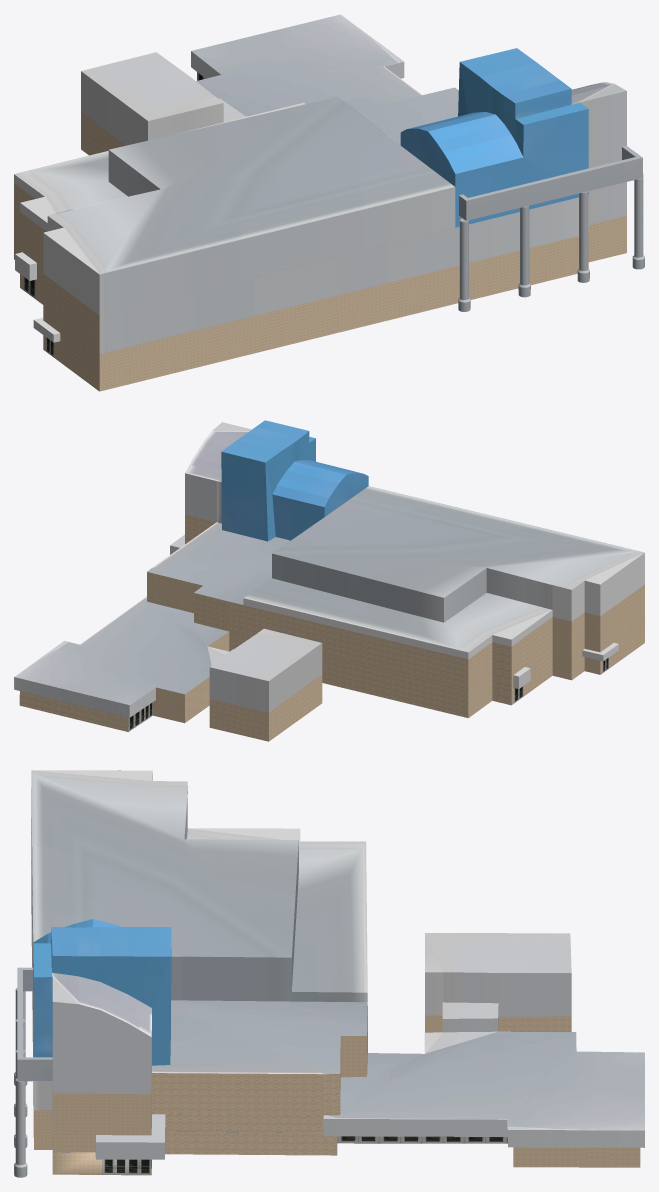
File: OlinTexturedV2.gltf
The picture shows the model from 3 angles, top to bottom: view 1: azimuth 30°, elevation 25°; view 2: azimuth 150°, elevation 25°; view 3: azimuth 270°, elevation 25°; orthographic projection. The views are drawn at different scales.
Parts seen in each view (by area): view 1: Plane; view 2: Plane; view 3: Plane.
Part boxes in pixels (bbox=[...]): Plane: bbox=[14, 14, 644, 391]; Plane: bbox=[14, 420, 644, 741]; Plane: bbox=[14, 770, 644, 1177].
Size of the model in its own units: 62.06 by 19.11 by 56.96.
Materials: 5 (5 with a texture image).
